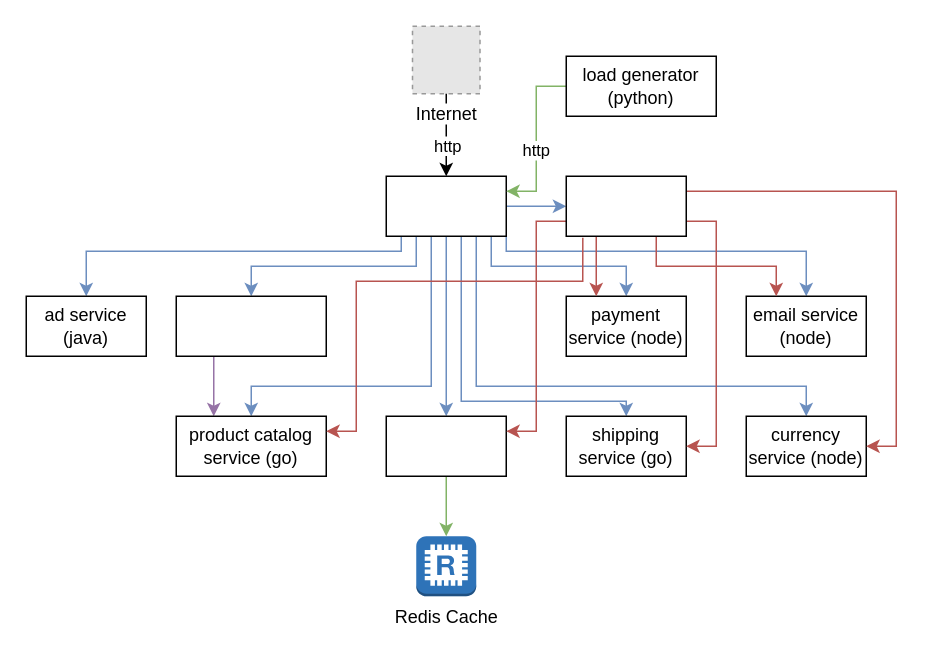
Image size: 935x654. Some labels were removed from this diagram. Grey dashed boxes stand in for pictures. Here are the shapes that lost their labels. From the top down, the centre of each, then its label:
At pixel 445 205: "frontend (go)".
At pixel 625 205: "checkout service (go)".
At pixel 250 325: "recomm... service (python)".
At pixel 445 445: "cart service (c#)".
